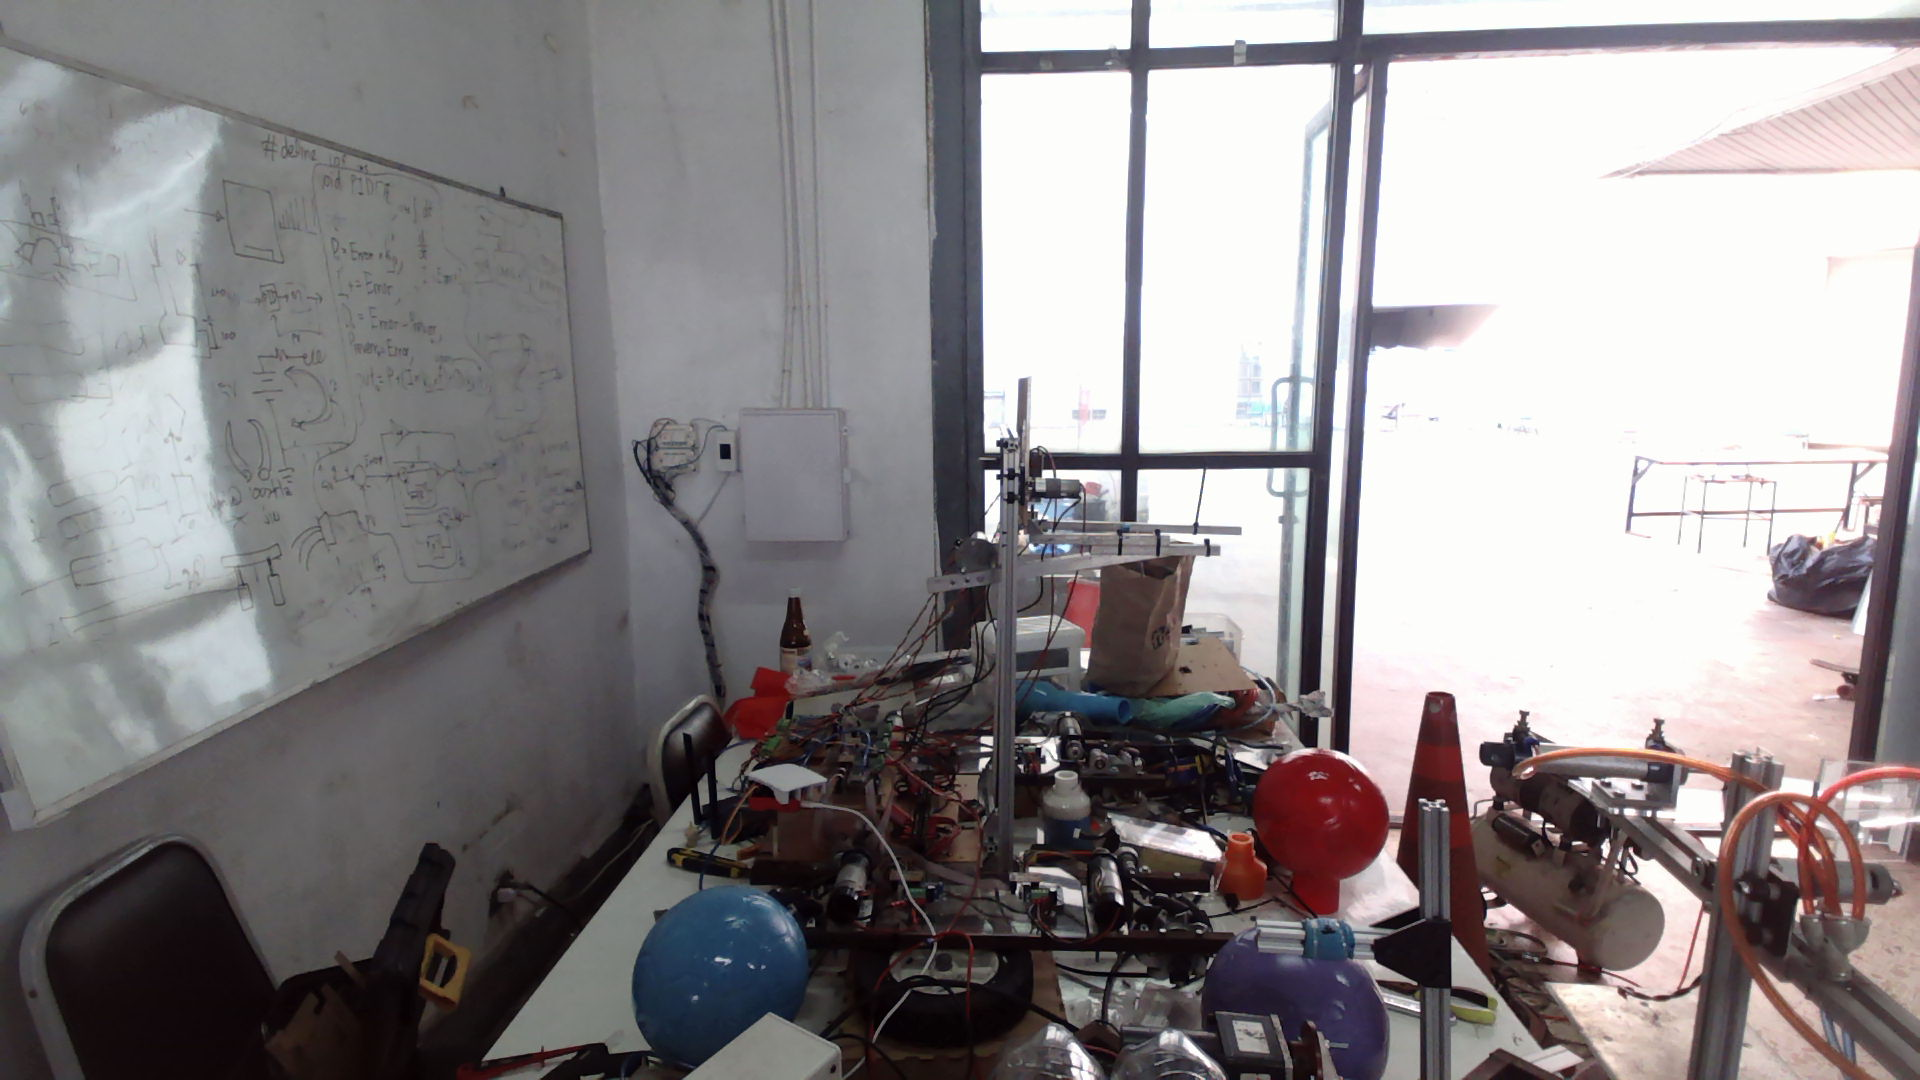Blue ball: (628, 884, 811, 1056)
Purple ball: (1205, 927, 1395, 1056)
Red ball: (1250, 744, 1393, 884)
